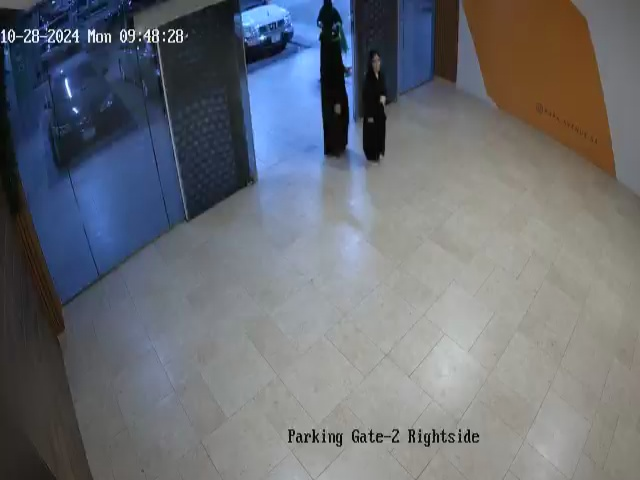female: (316, 25, 354, 160), (360, 50, 389, 163), (310, 2, 348, 26)
